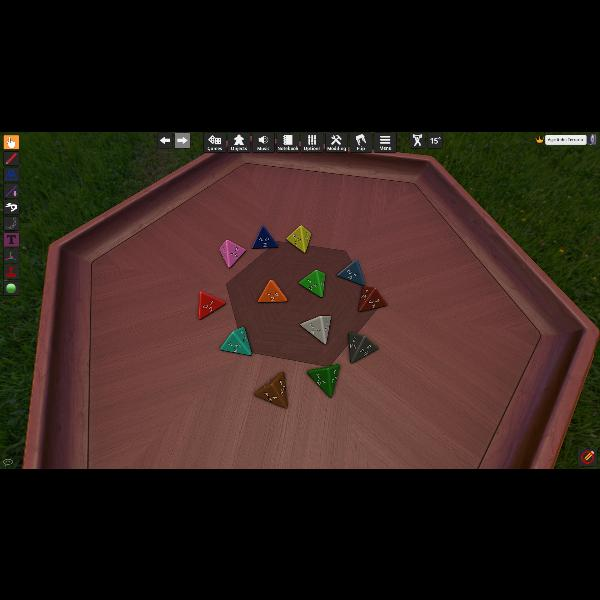d4: (254, 372, 288, 409), (306, 364, 340, 398), (350, 332, 378, 364), (300, 316, 332, 344), (220, 327, 250, 355), (198, 290, 224, 320), (299, 269, 325, 297), (219, 240, 245, 268), (338, 258, 364, 286), (358, 285, 386, 311), (258, 279, 288, 303), (286, 225, 312, 252), (251, 225, 278, 249)
